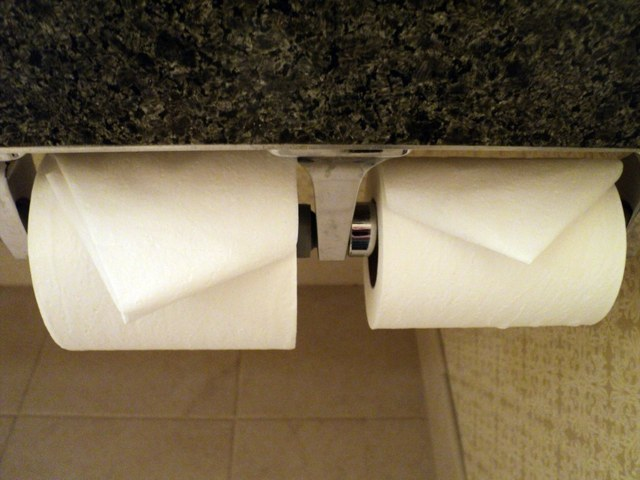toilet_paper: (28, 154, 299, 351), (364, 160, 628, 330)
